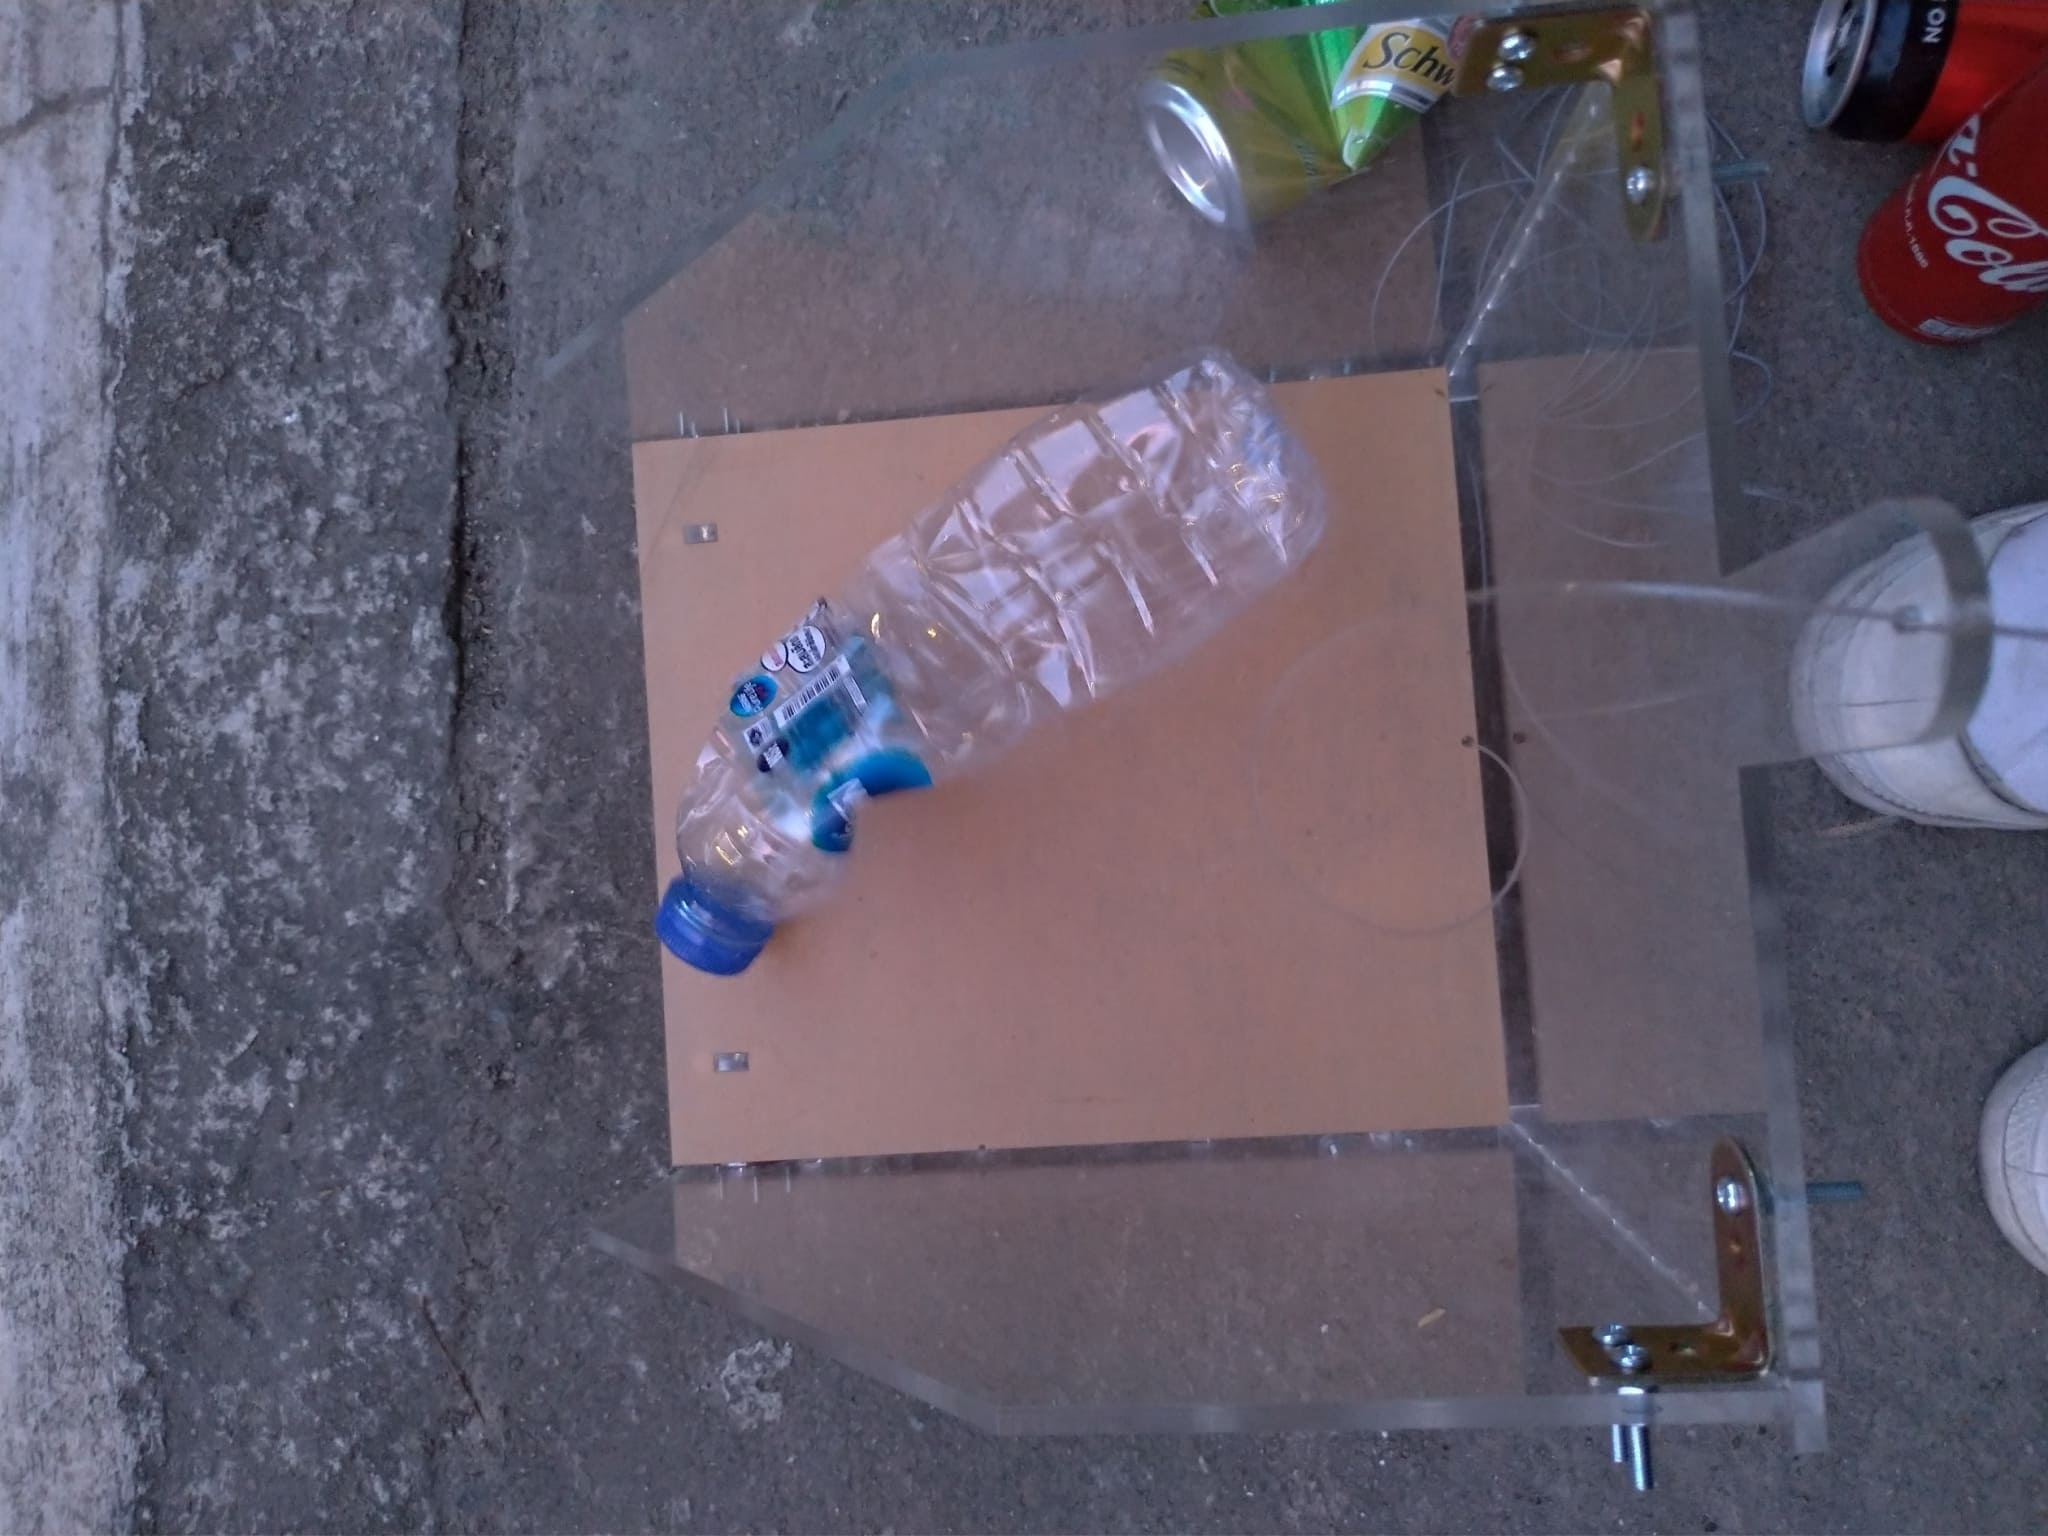AlCan: (1127, 23, 1467, 224), (1856, 69, 2048, 349), (1801, 2, 2022, 140)
PlasticBottle: (660, 350, 1335, 983)
